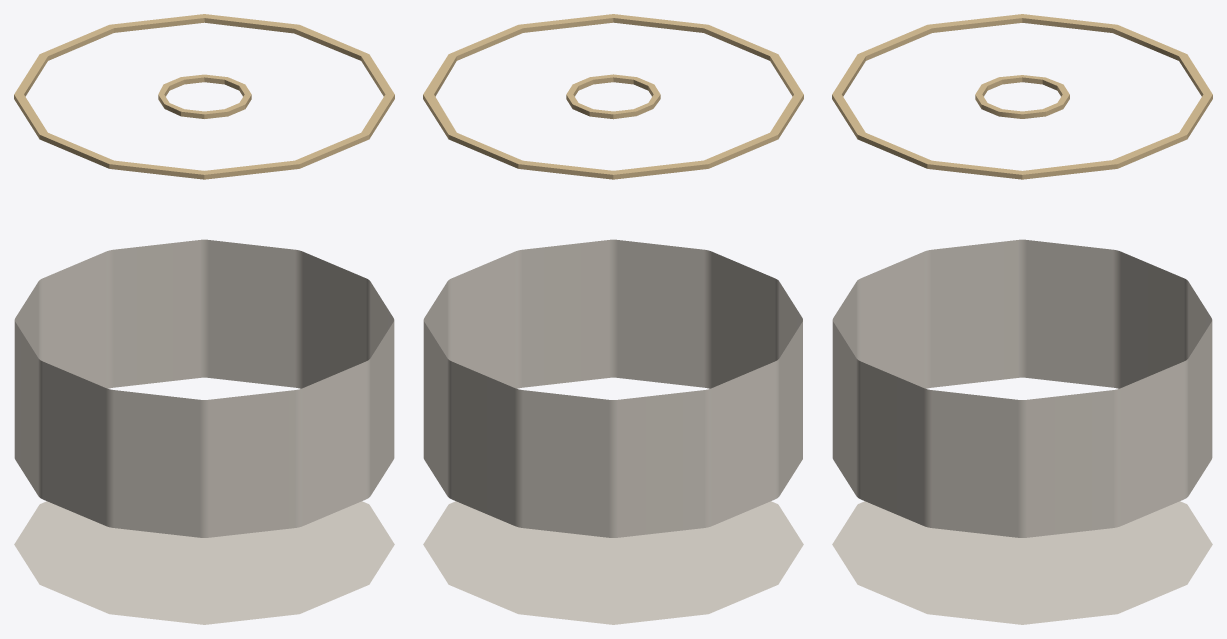
File: general_room.fbx
3 renders of one model, left to right at view 1: azimuth 30°, elevation 25°; view 2: azimuth 150°, elevation 25°; view 3: azimuth 270°, elevation 25°, orthographic.
Visible parts, largest first — view 1: walls, floor, ceiling2; view 2: walls, floor, ceiling2; view 3: walls, floor, ceiling2.
Part boxes in pixels (x1=…): walls: x1=14, y1=239, x2=394, y2=537; floor: x1=14, y1=501, x2=394, y2=624; ceiling2: x1=14, y1=14, x2=394, y2=179; walls: x1=423, y1=239, x2=802, y2=537; floor: x1=423, y1=501, x2=803, y2=624; ceiling2: x1=423, y1=14, x2=803, y2=179; walls: x1=832, y1=239, x2=1212, y2=537; floor: x1=832, y1=501, x2=1212, y2=624; ceiling2: x1=832, y1=14, x2=1212, y2=179.
Bounding box in the file's own units: 20 × 26.09 × 20.
